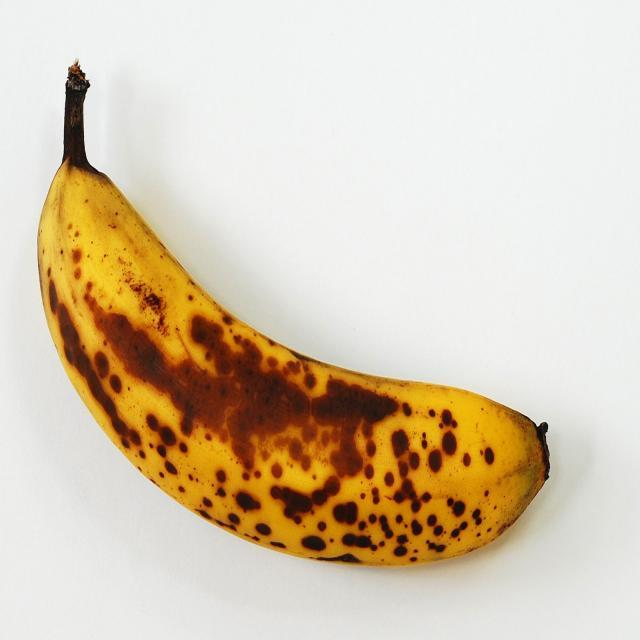Banana: (37, 61, 554, 573)
